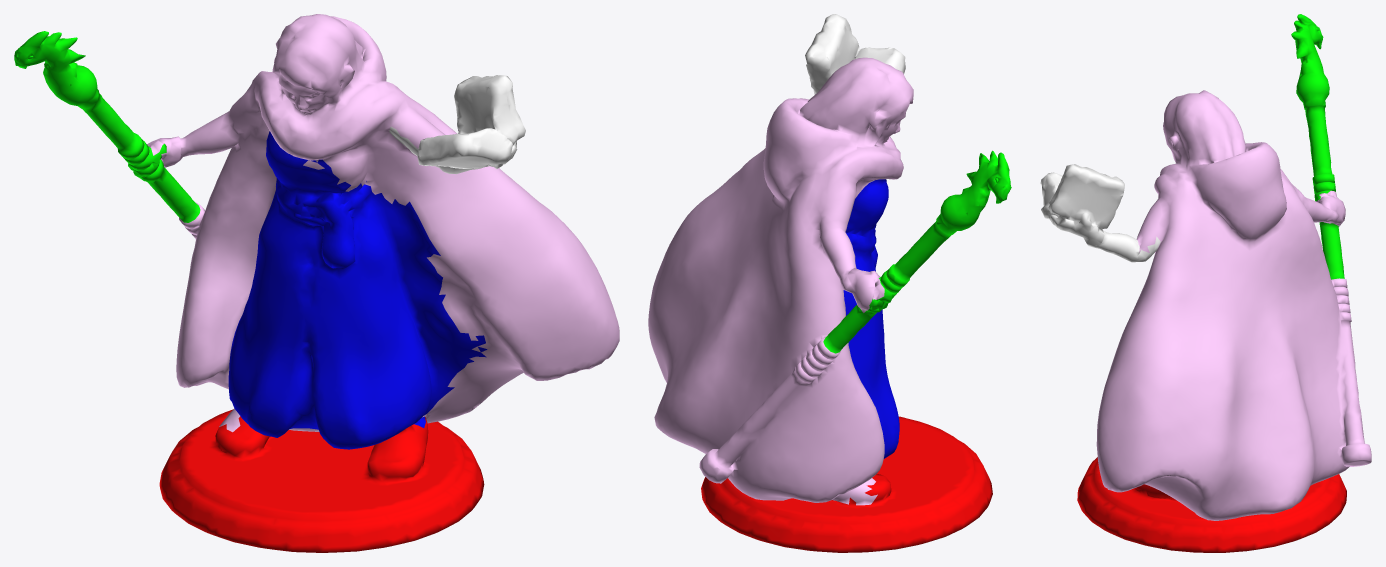
File: model_25851_segmented.obj
3 renders of one model, left to right at view 1: azimuth 30°, elevation 25°; view 2: azimuth 150°, elevation 25°; view 3: azimuth 270°, elevation 25°, orthographic. The views are drawn at different scales.
Bounding box in the file's own units: 33.65 × 31.07 × 23.57.
